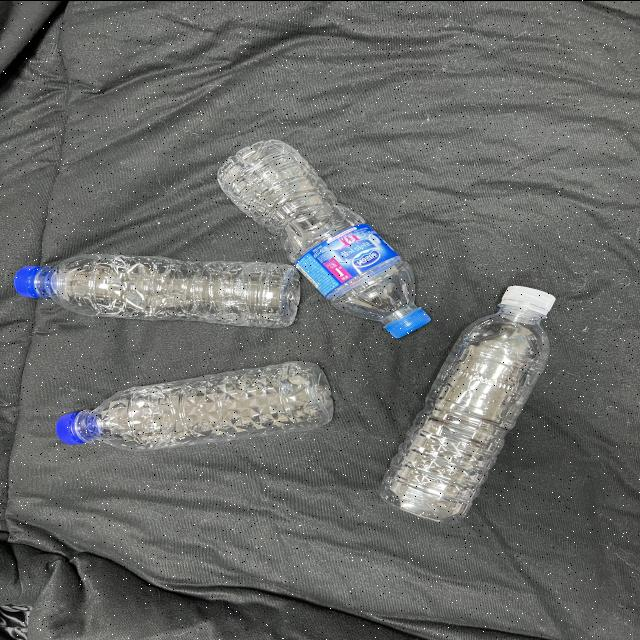plastic: (199, 121, 455, 361), (358, 278, 580, 536), (37, 341, 350, 477), (11, 245, 303, 336)
